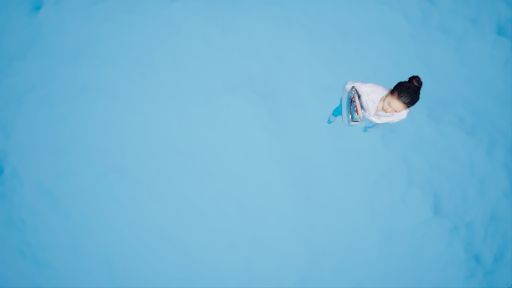person: (334, 72, 419, 132)
